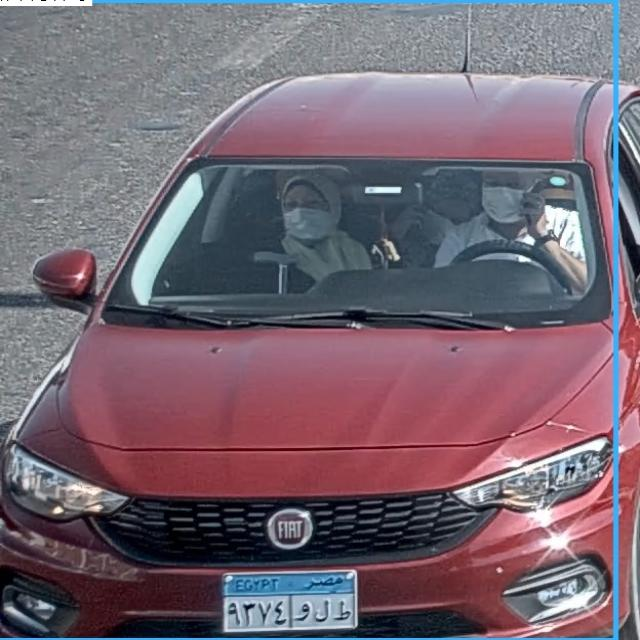windshield: (119, 156, 610, 322)
